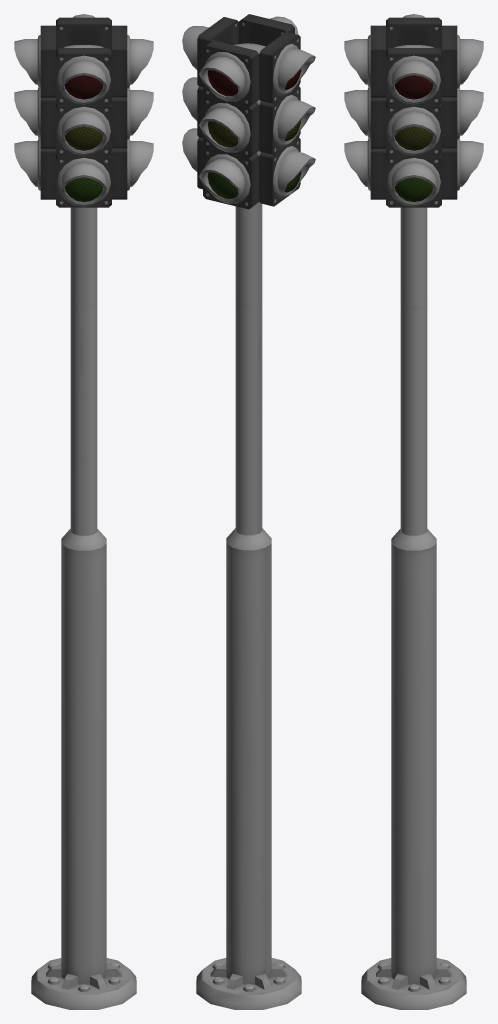
Rendered from TrafficLight_4way.fbx.
The picture shows the model from 3 angles, left to right: view 1: azimuth 90°, elevation 25°; view 2: azimuth 150°, elevation 25°; view 3: azimuth 270°, elevation 25°; orthographic projection.
Parts seen in each view (by area): view 1: TrafficLight_4way_LOD0; view 2: TrafficLight_4way_LOD0; view 3: TrafficLight_4way_LOD0.
Boxes of the visible parts, x1,y1,x2,y2 form: TrafficLight_4way_LOD0: (14,14,153,1009); TrafficLight_4way_LOD0: (182,14,315,1009); TrafficLight_4way_LOD0: (344,14,483,1009).
Size of what is drawn, in the model's own units: 61.03 by 460 by 61.03.
